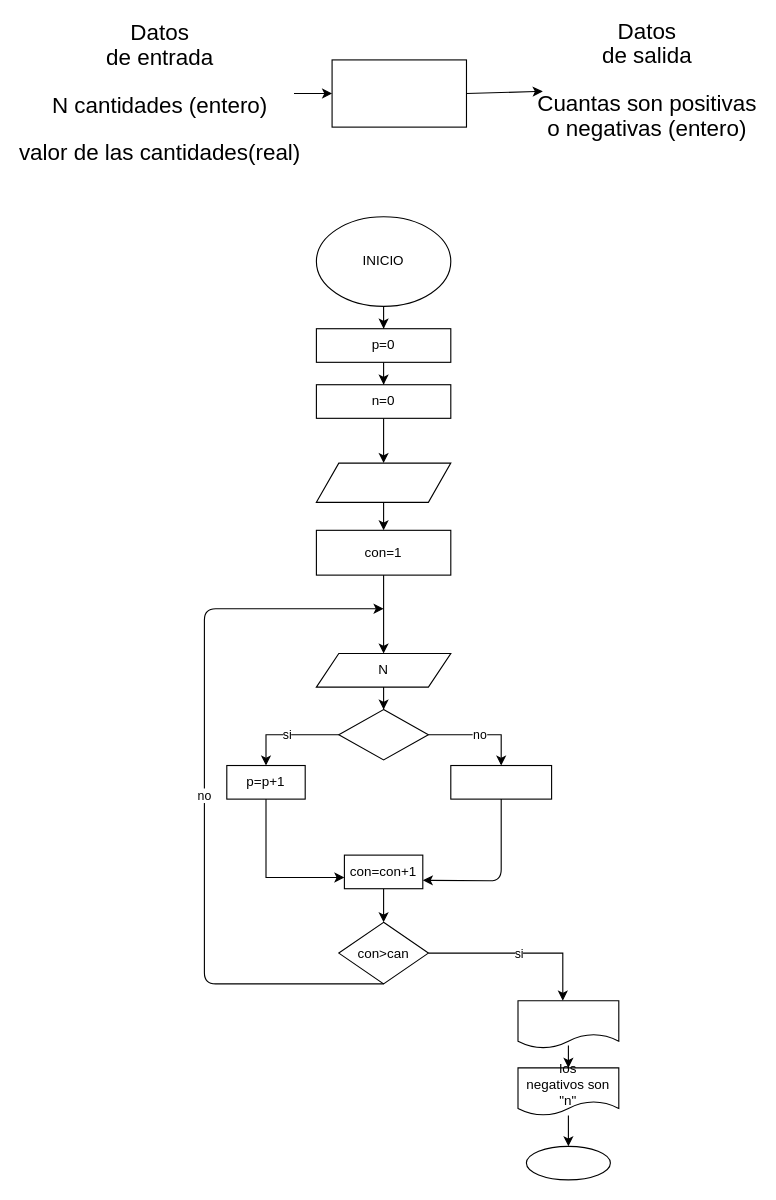
Some shapes in this 776 by 1200 pixel diagram are drawn without their labels. The shapes that lost their labels are listed below. From the top down, each one's centre as x and y in pixels, then its label:
pixel 383 482: can
pixel 383 734: N>0
pixel 501 781: n=n+1
pixel 568 1024: los positivos son "p"
pixel 567 1162: FIN
